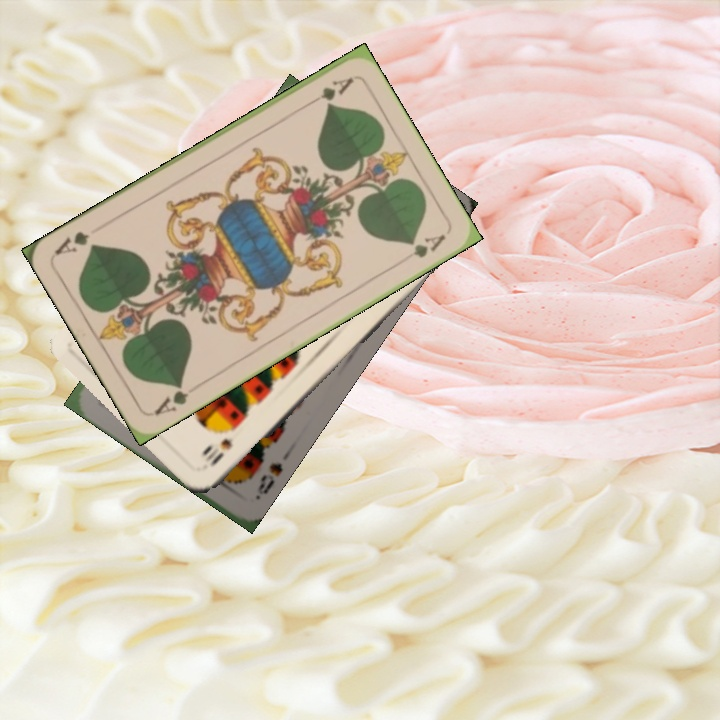GA: (302, 73, 356, 110), (150, 379, 191, 418)
S10: (201, 435, 236, 469)
S8: (251, 458, 285, 503)
